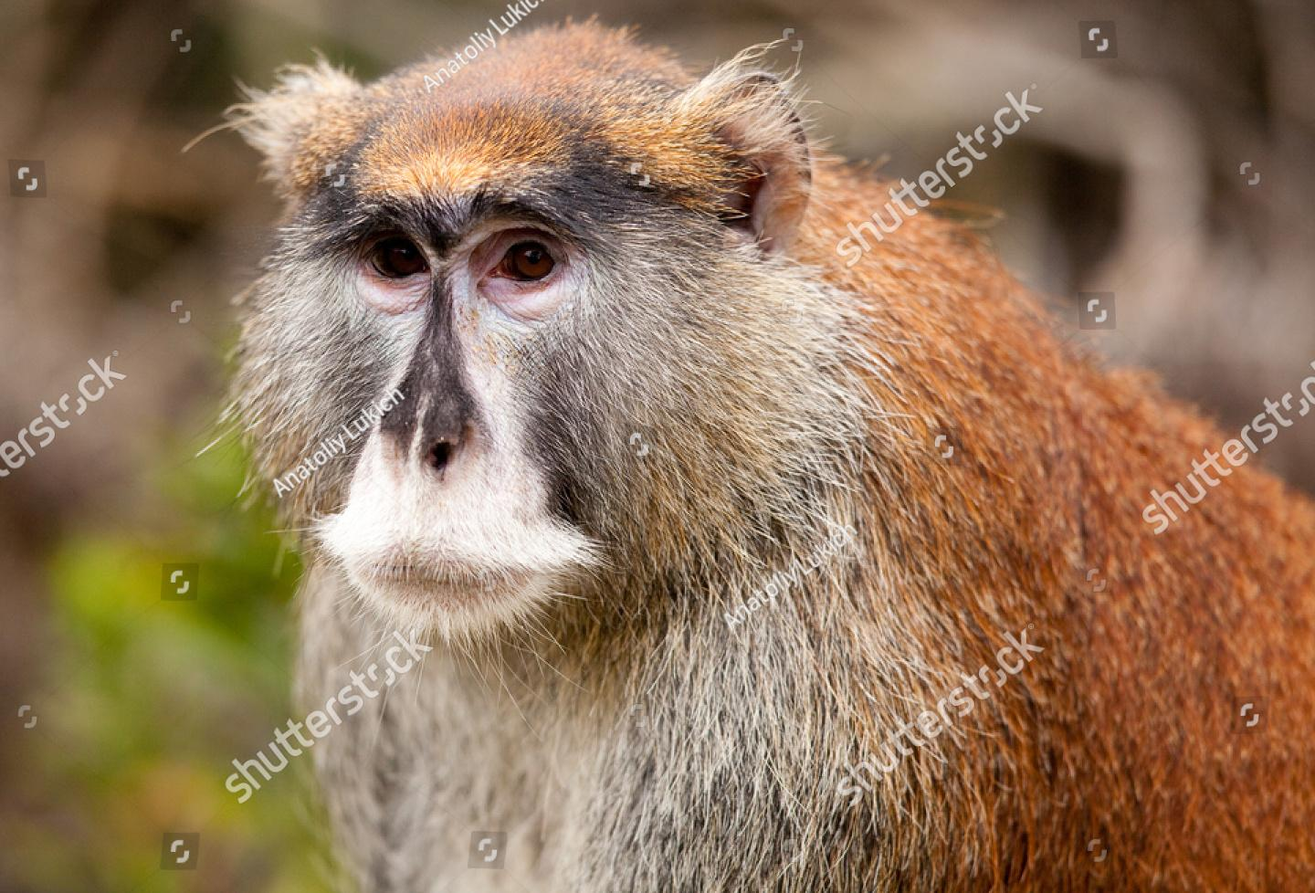monkey: (184, 27, 1315, 892)
